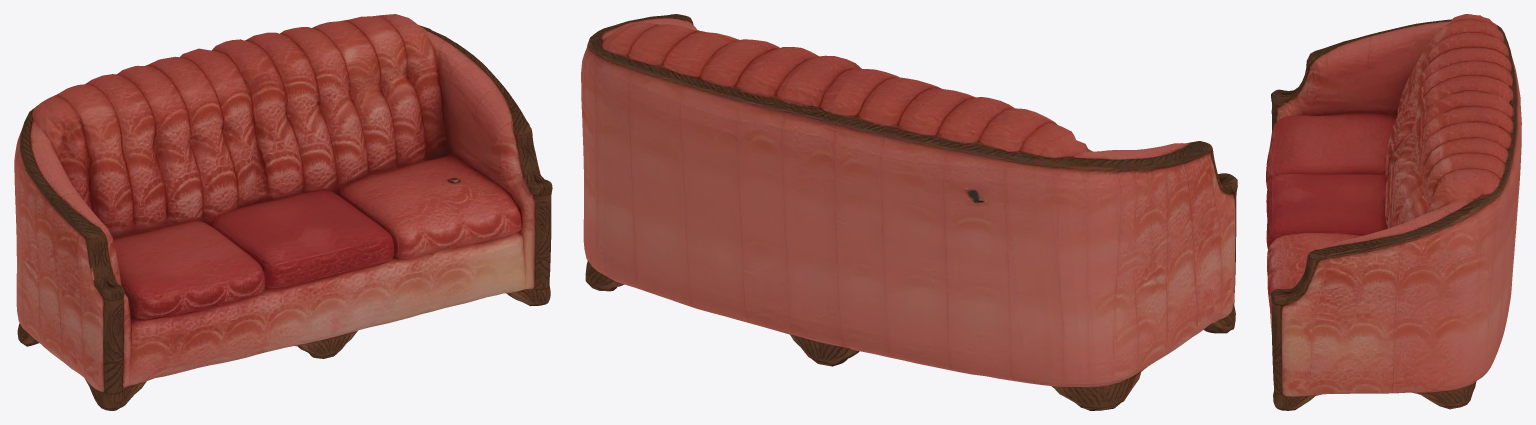
File: sofa.glb
3 renders of one model, left to right at view 1: azimuth 30°, elevation 25°; view 2: azimuth 150°, elevation 25°; view 3: azimuth 270°, elevation 25°, orthographic. The views are drawn at different scales.
Parts seen in each view (by area): view 1: tripo_node_4f132779-97a6-45d7-bf5c-7bc777eacc88; view 2: tripo_node_4f132779-97a6-45d7-bf5c-7bc777eacc88; view 3: tripo_node_4f132779-97a6-45d7-bf5c-7bc777eacc88.
Part boxes in pixels (x1=…): tripo_node_4f132779-97a6-45d7-bf5c-7bc777eacc88: x1=14, y1=14, x2=552, y2=410; tripo_node_4f132779-97a6-45d7-bf5c-7bc777eacc88: x1=581, y1=14, x2=1237, y2=410; tripo_node_4f132779-97a6-45d7-bf5c-7bc777eacc88: x1=1266, y1=14, x2=1521, y2=410.
Size of the model in its own units: 0.9789 by 0.4712 by 0.4942.
1 material, 1 textured.
